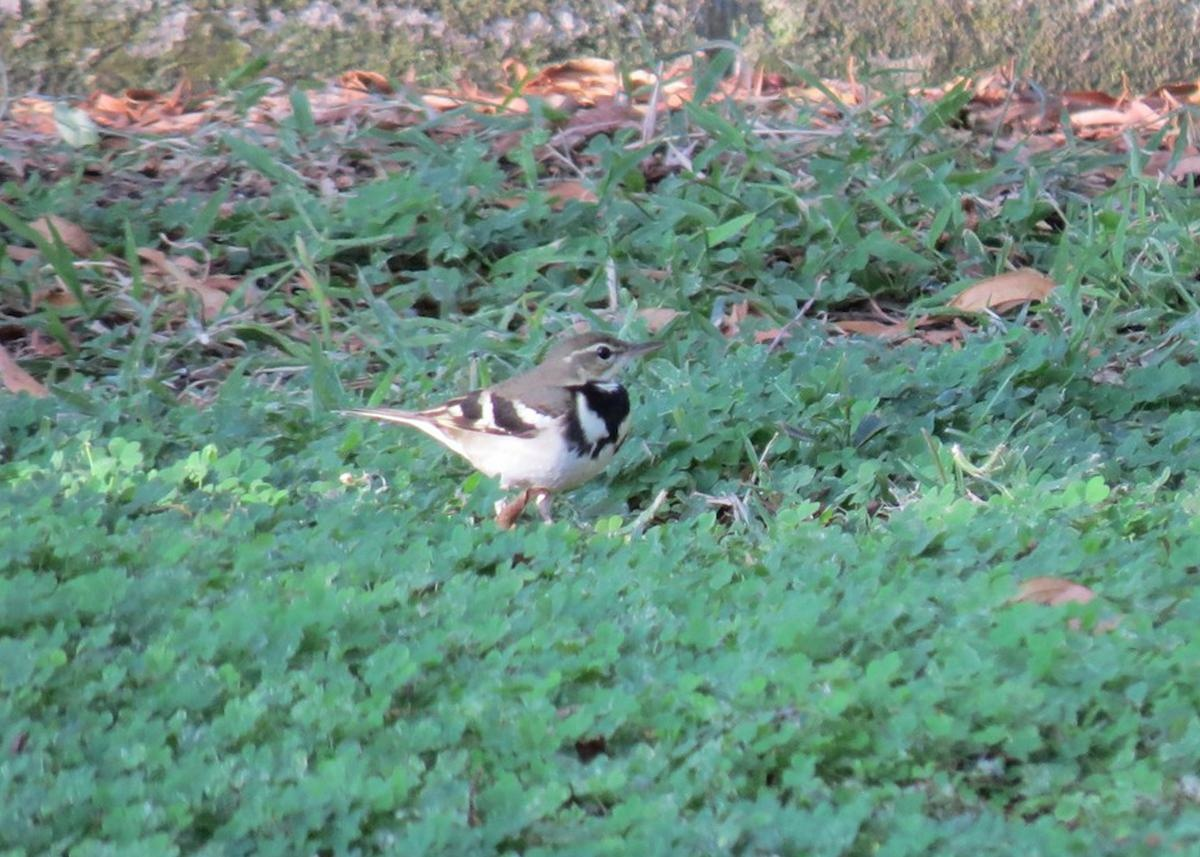wagtail: (307, 315, 665, 531)
